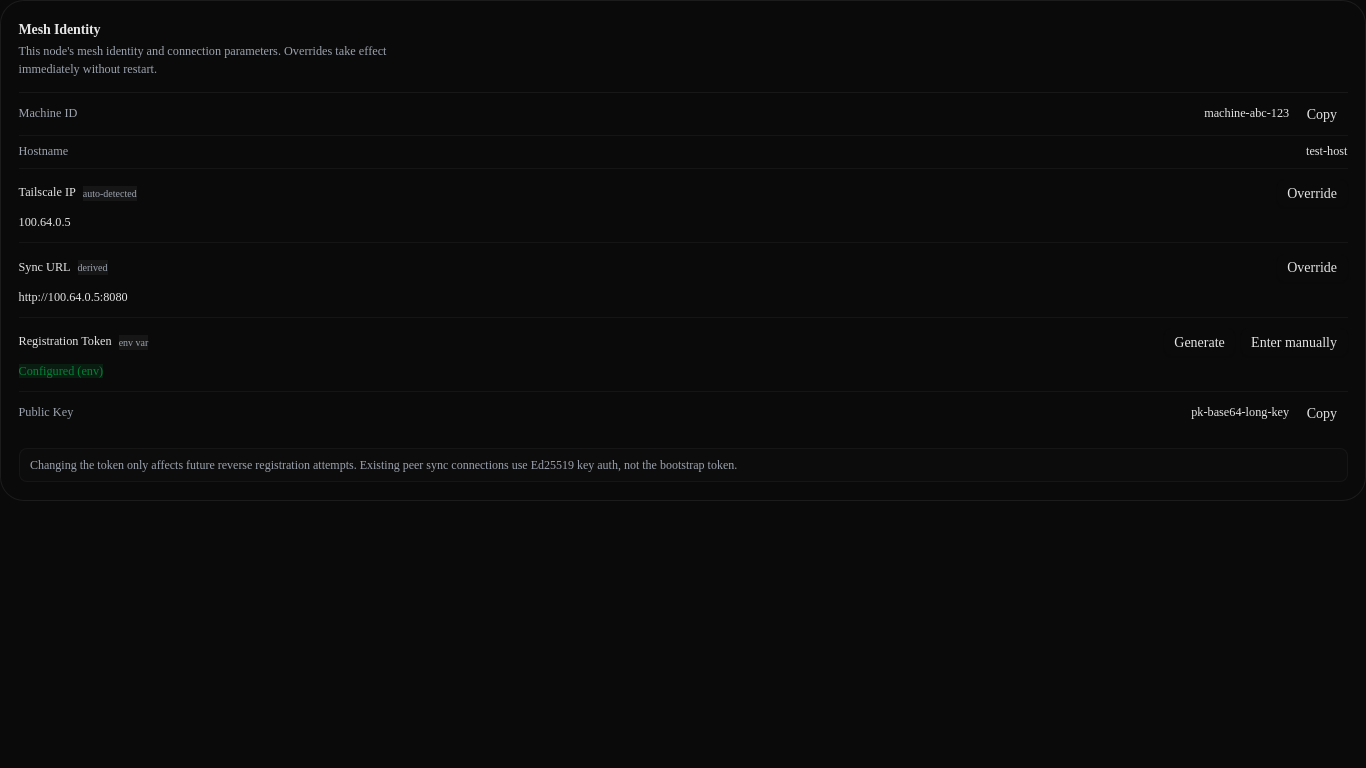
Test: MeshConfigSection › validates IP format before saving
Click the button "Override" in the row of "auto-detected" at (1312, 193), box [1277,179,1348,207]
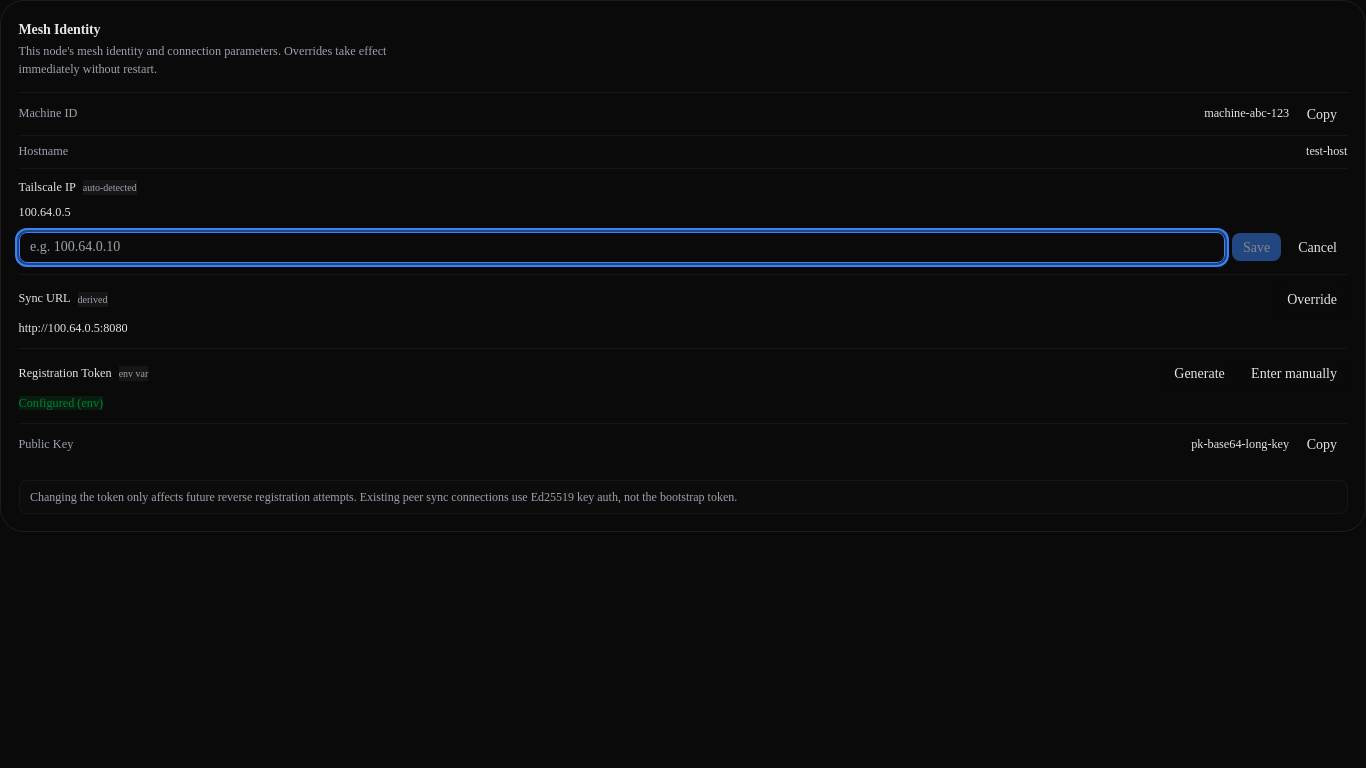
Type "not-an-ip" into the field with placeholder "e.g. 100.64.0.10" at (622, 247), box [18,232,1225,263]
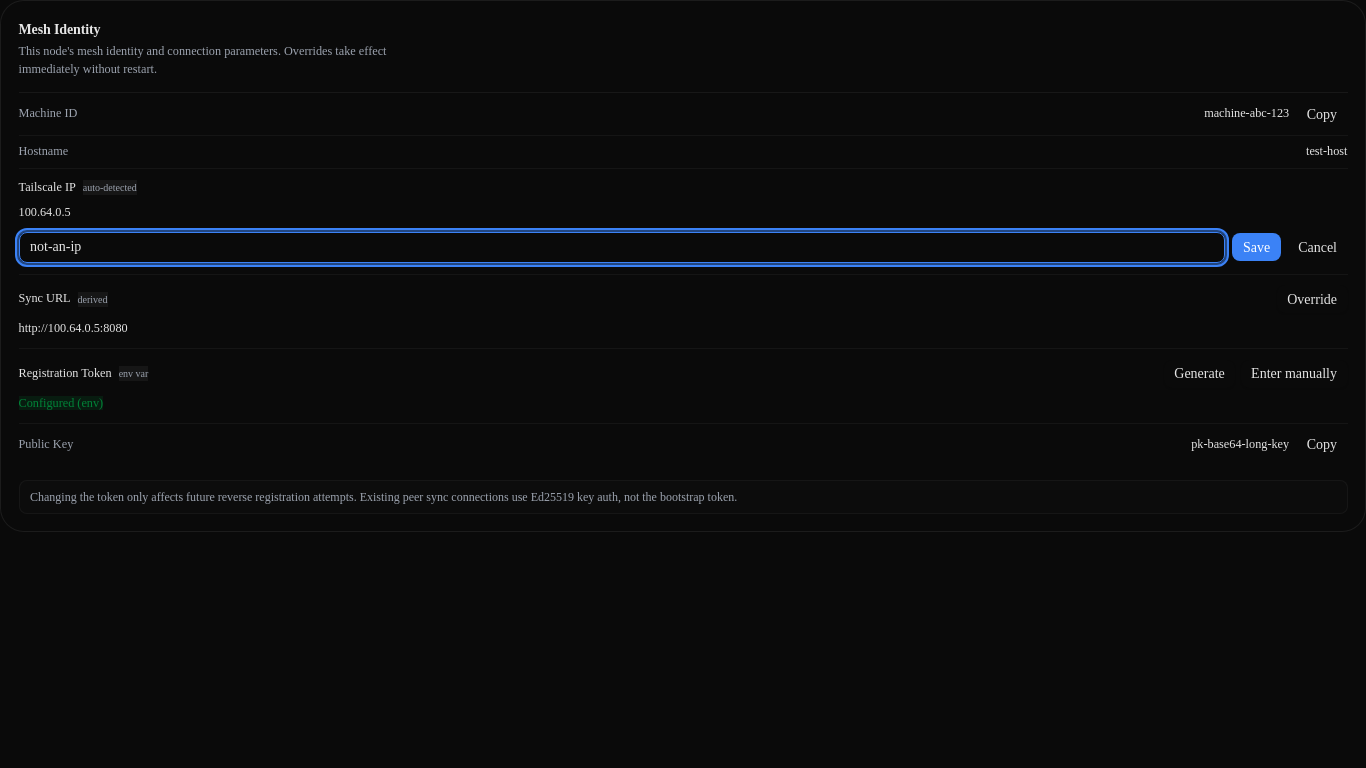
Click the button "Save" at (1256, 247), box [1232,233,1281,261]
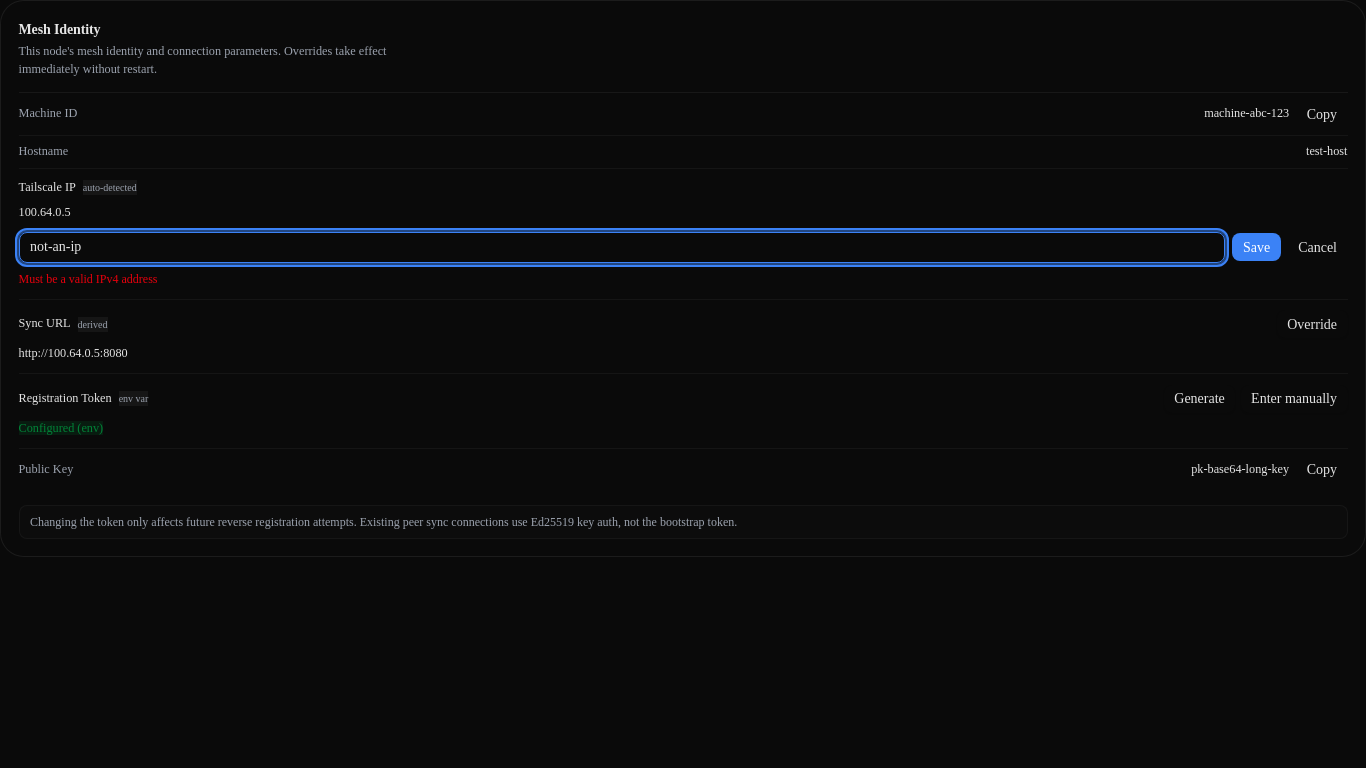
expect the text "Must be a valid IPv4 address" is shown: met, box [18,272,158,286]
